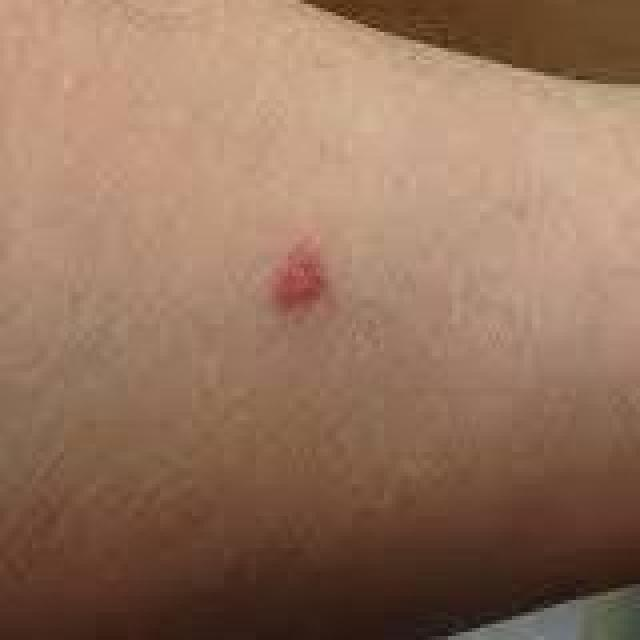kan emici bocekler: (253, 206, 357, 344)
